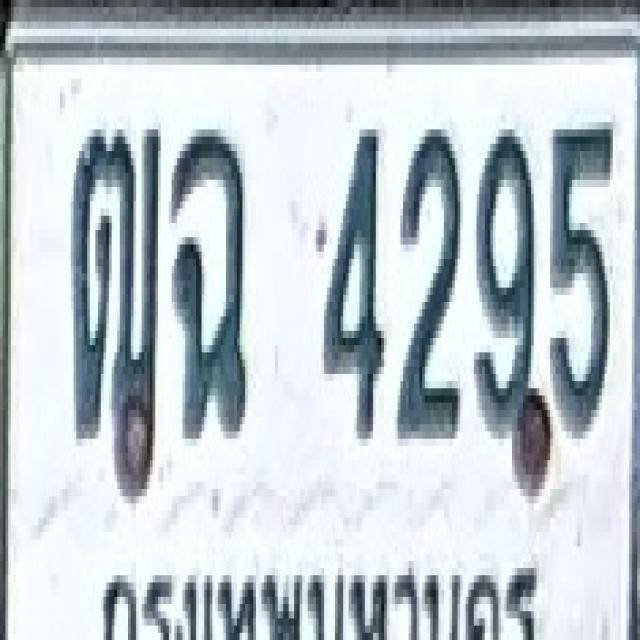2: (396, 122, 462, 439)
4: (321, 122, 384, 439)
5: (547, 115, 613, 439)
9: (472, 122, 552, 489)
A09: (170, 122, 249, 439)
A18: (70, 122, 160, 482)
